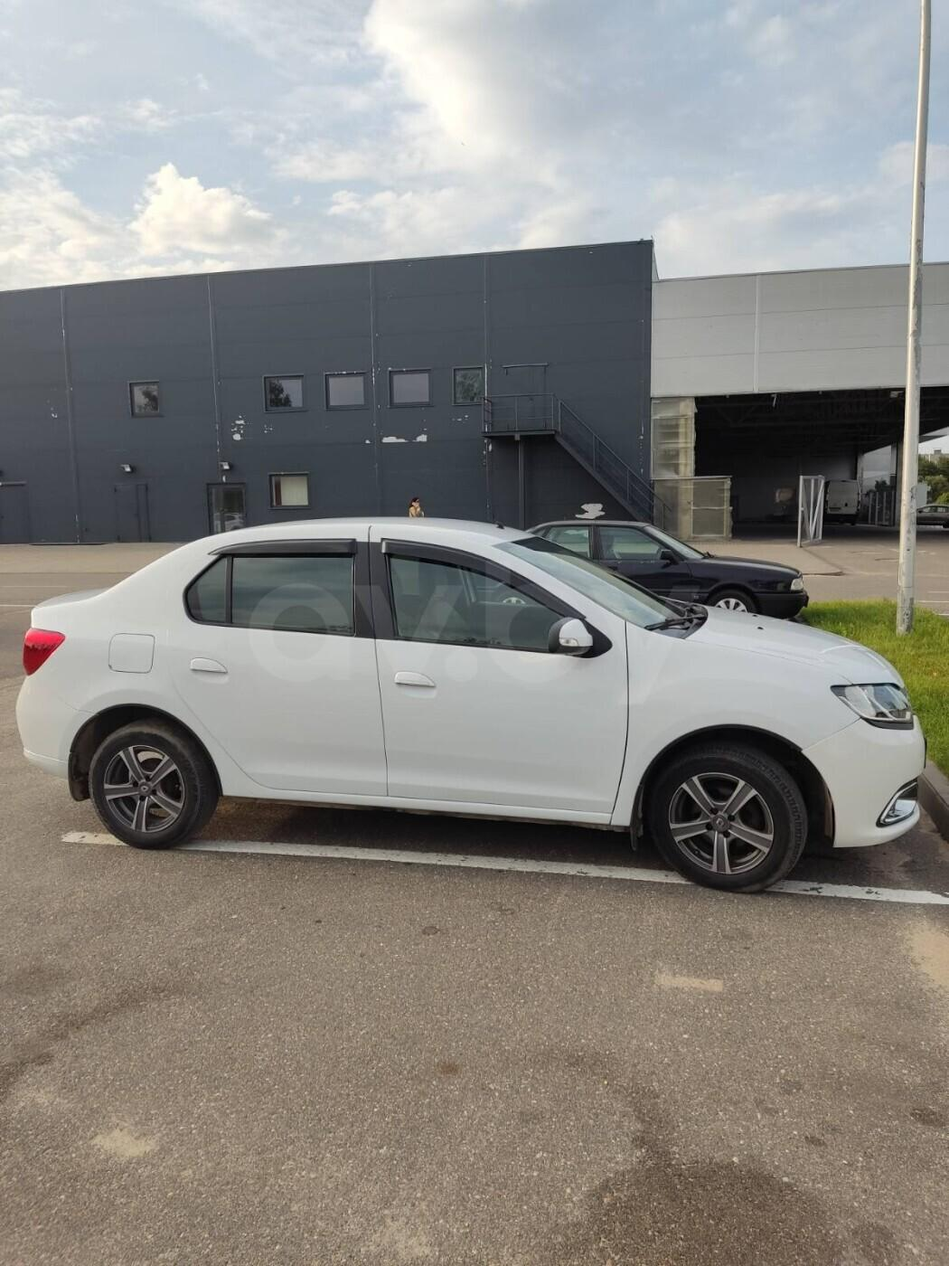Logan_2013-2018: (14, 512, 938, 906)
